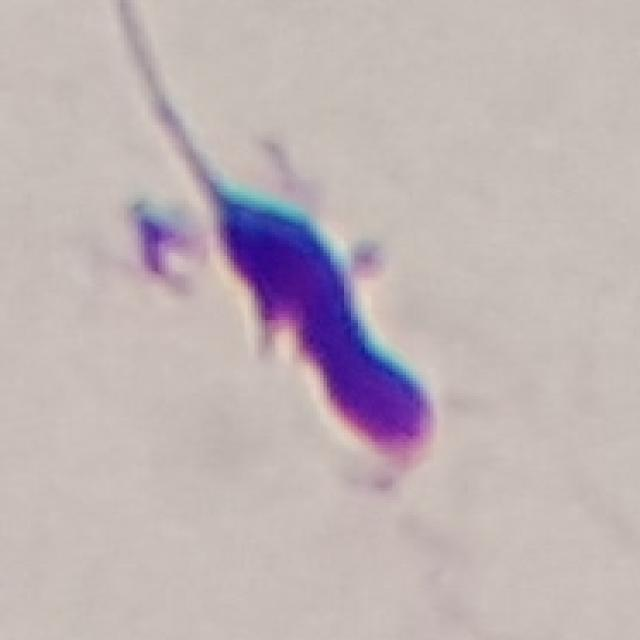abnormal sperm: (102, 42, 490, 514)
